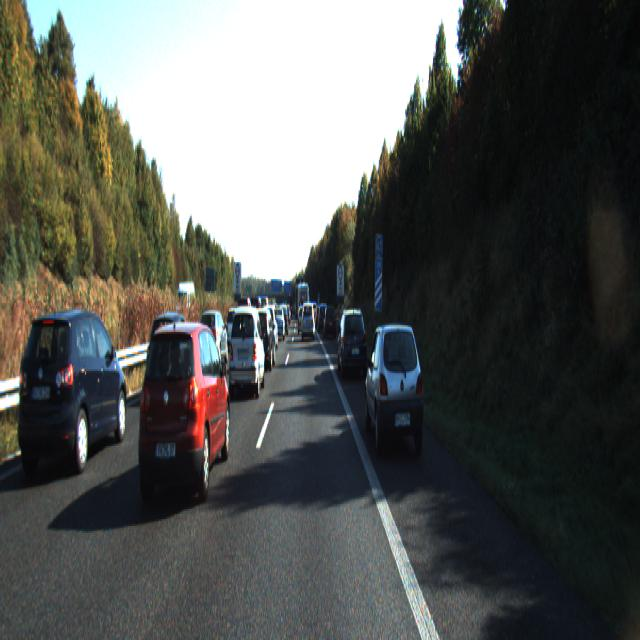Car: (14, 306, 129, 482), (132, 318, 232, 516), (364, 320, 426, 463), (227, 302, 266, 398), (338, 305, 368, 378), (198, 311, 229, 370), (249, 309, 276, 375), (175, 281, 197, 325), (226, 310, 247, 354), (302, 304, 315, 343), (272, 309, 286, 343), (324, 306, 336, 341), (319, 304, 329, 334)
